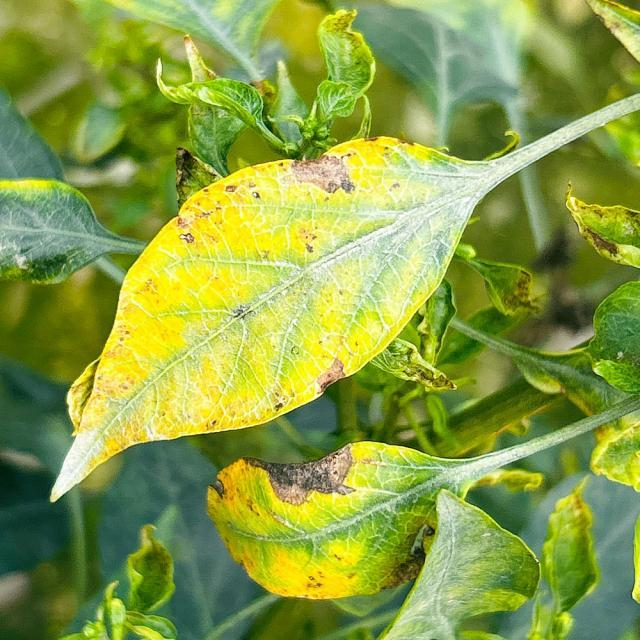Bercak Daun Serkospora: (48, 89, 639, 502), (205, 437, 497, 605)
